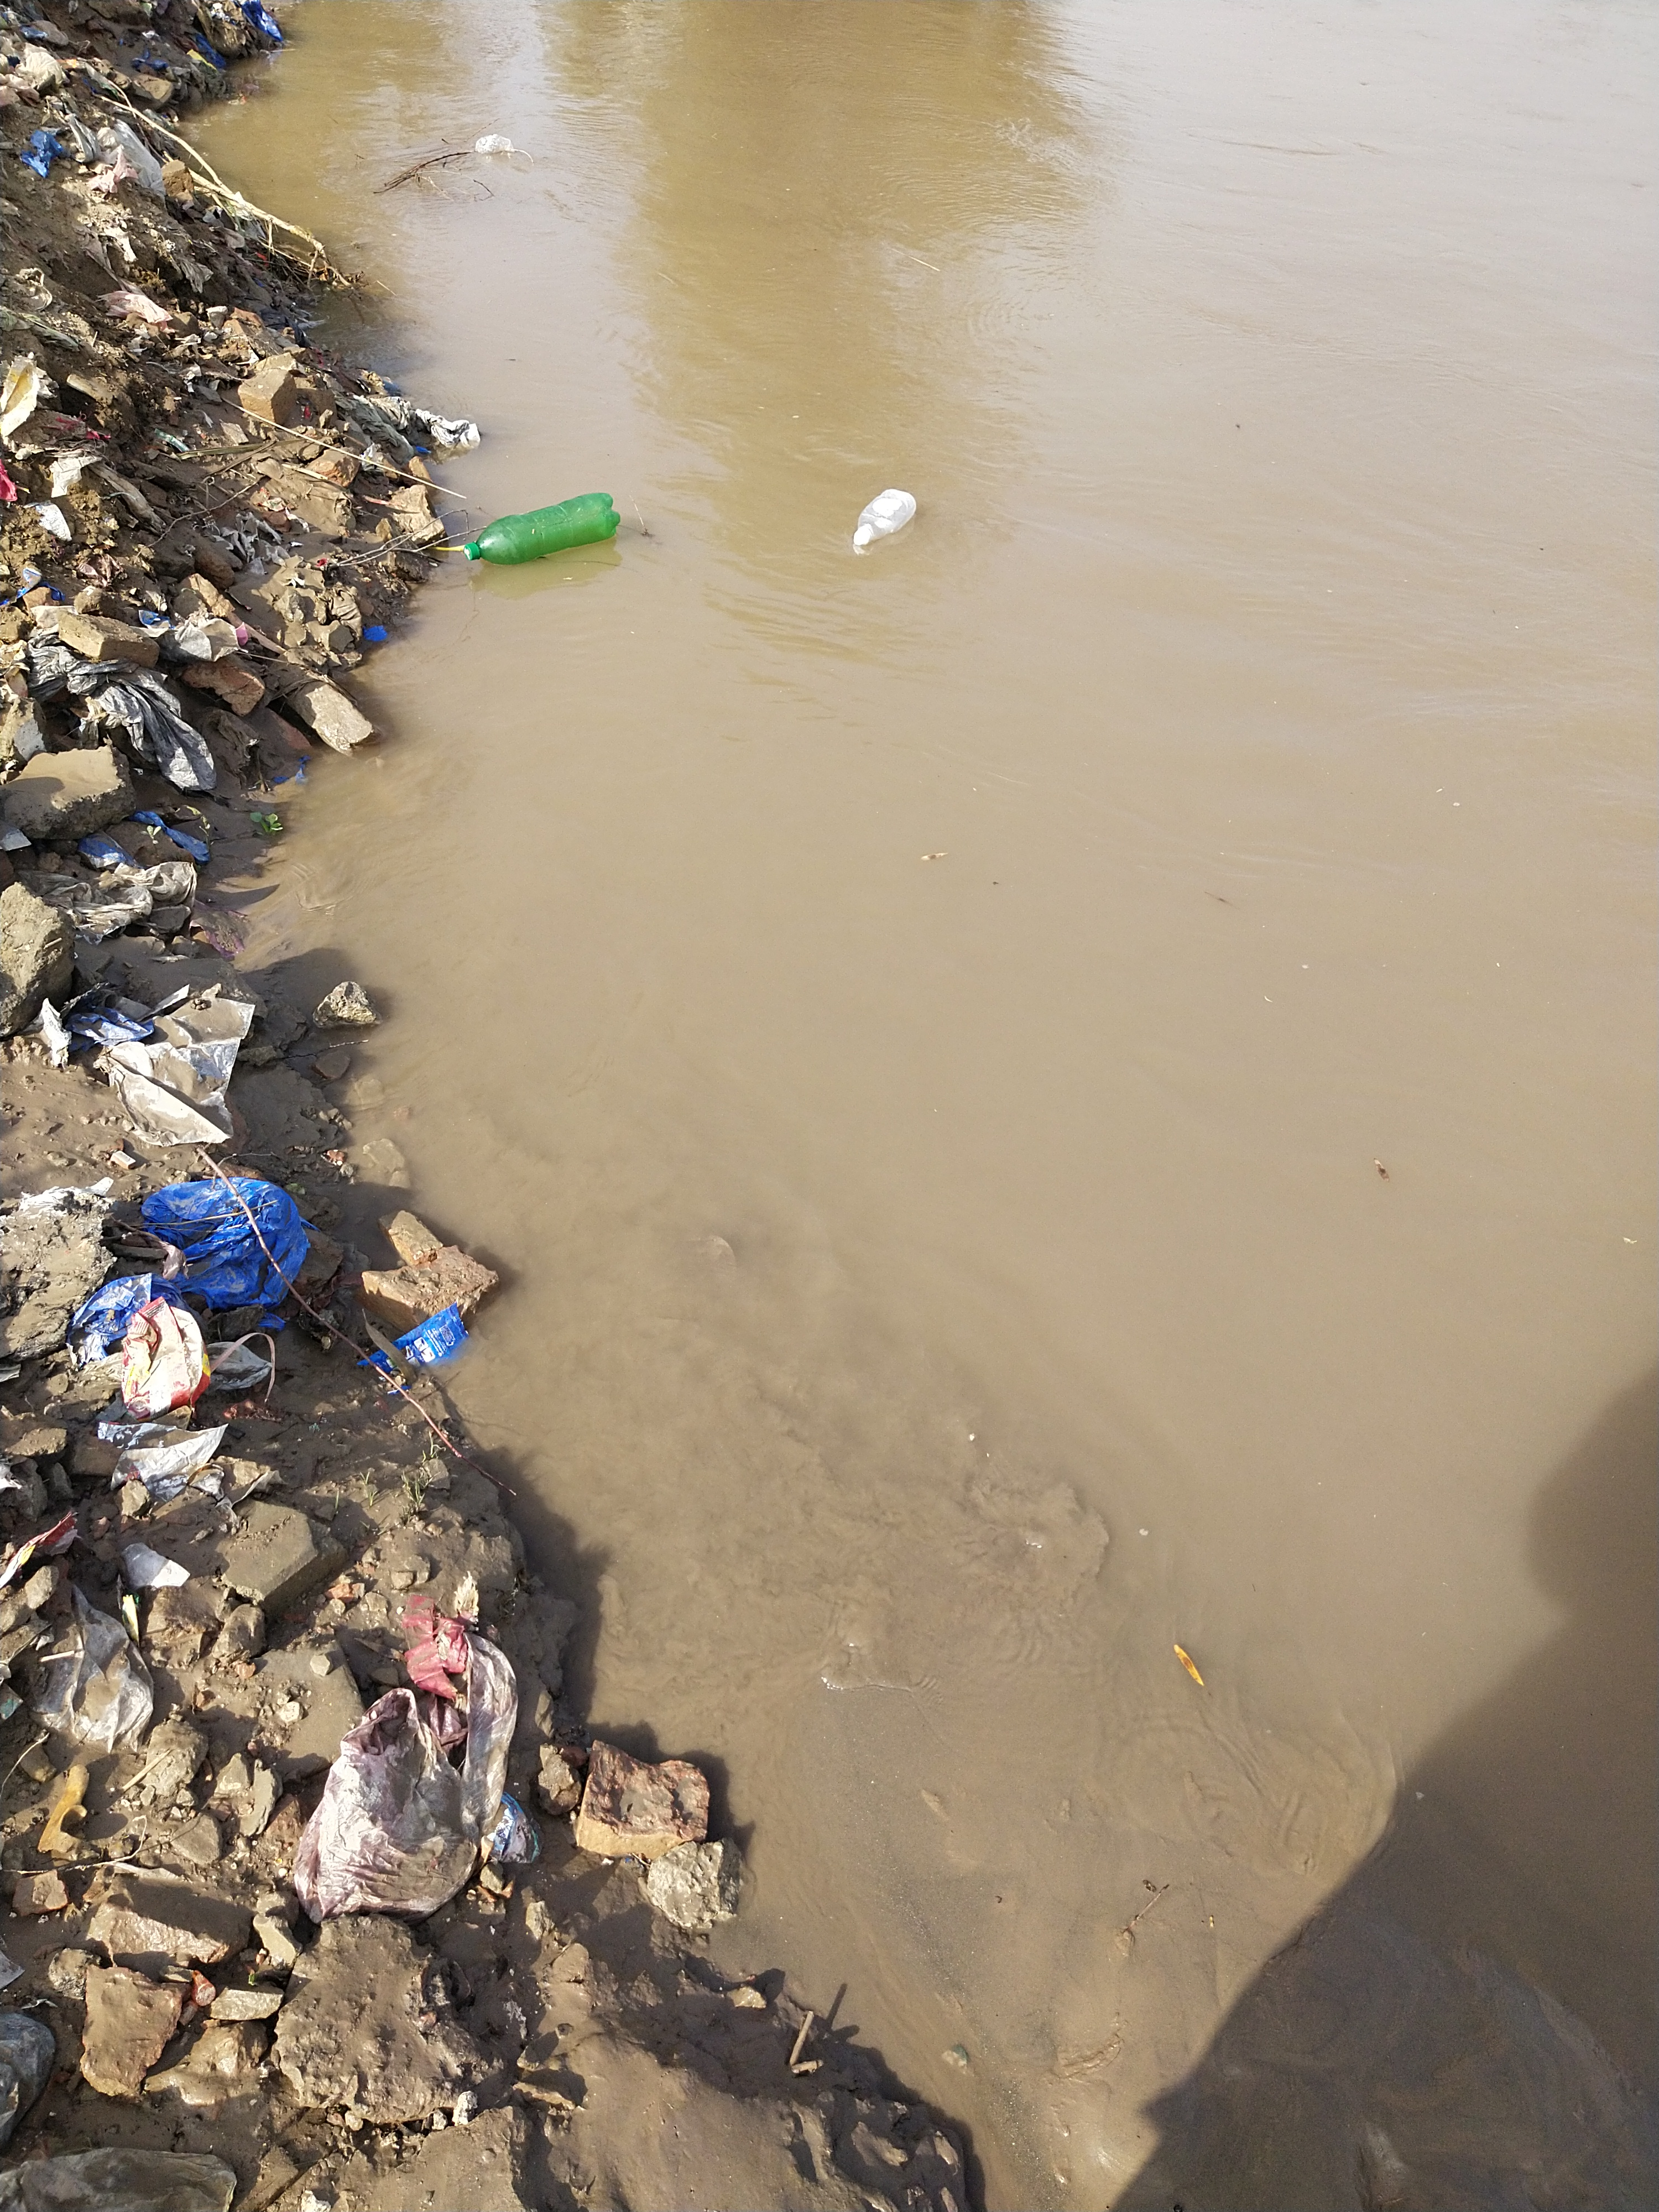Plastic Bottle: (464, 493, 620, 564), (854, 488, 917, 545)
